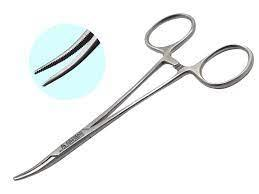Artery Forceps: (11, 11, 257, 189)
